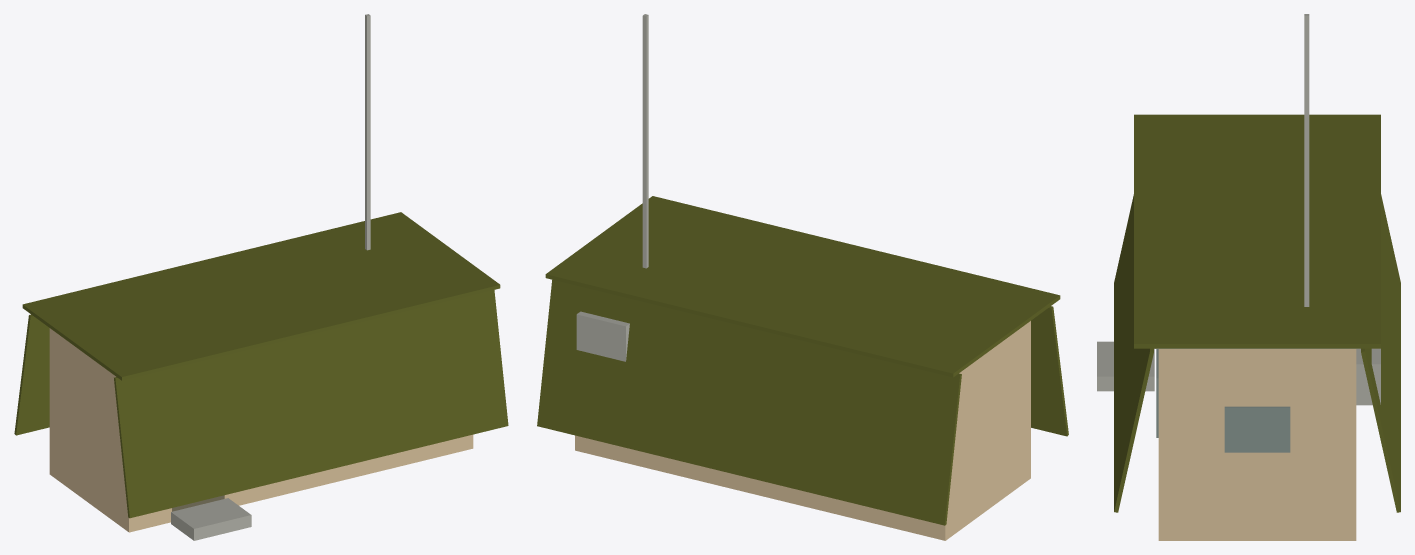
The model's file is SM_Caseta_v4_Antena_LOD0.fbx.
3 renders of one model, left to right at view 1: azimuth 30°, elevation 25°; view 2: azimuth 150°, elevation 25°; view 3: azimuth 270°, elevation 25°, orthographic. The views are drawn at different scales.
Visible parts, largest first — view 1: SM_ambiente_aerodromo_v14_LOD0; view 2: SM_ambiente_aerodromo_v14_LOD0; view 3: SM_ambiente_aerodromo_v14_LOD0.
Part boxes in pixels (x1=…): SM_ambiente_aerodromo_v14_LOD0: x1=14, y1=14, x2=508, y2=540; SM_ambiente_aerodromo_v14_LOD0: x1=537, y1=14, x2=1068, y2=540; SM_ambiente_aerodromo_v14_LOD0: x1=1097, y1=14, x2=1400, y2=540.
Bounding box in the file's own units: 6.6 × 6.68 × 3.69.
